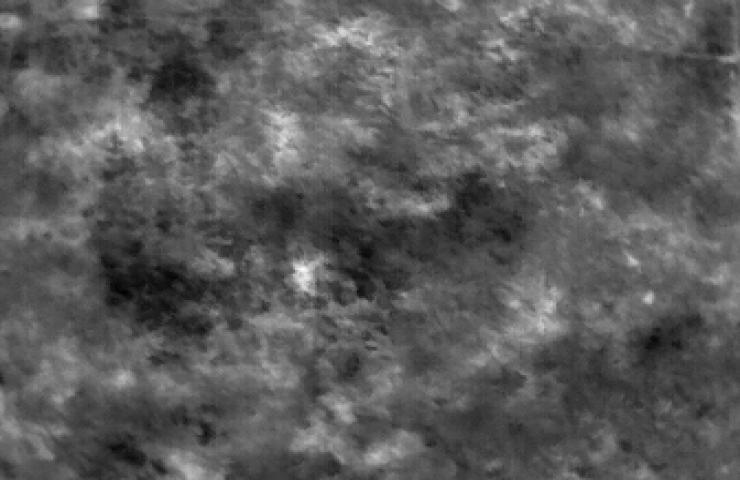landmines: (290, 254, 332, 299)
